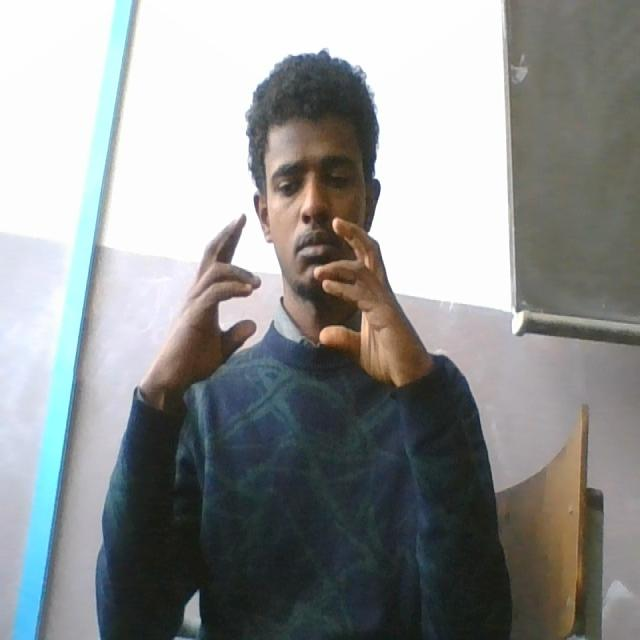sefer: (150, 208, 429, 400)
